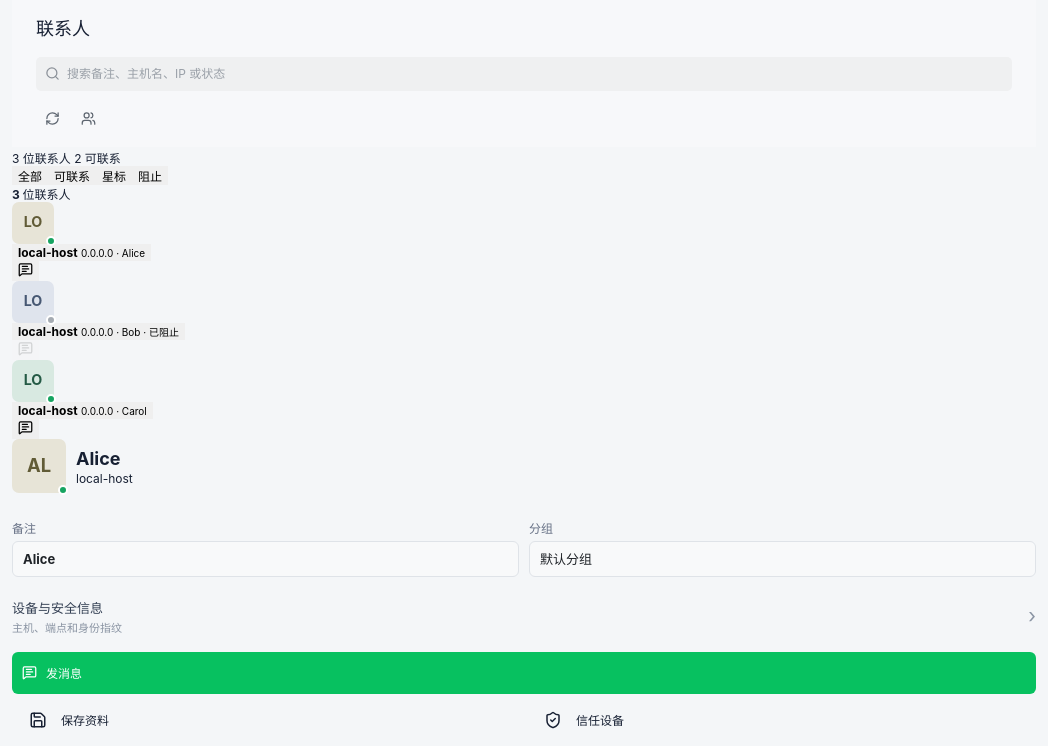
WorkspacePanel contacts empty state › filters contacts by favorite and blocked status
This screenshot has width=1048, height=746.
Click the tab "星标": point(114, 175) [96,166,132,184]
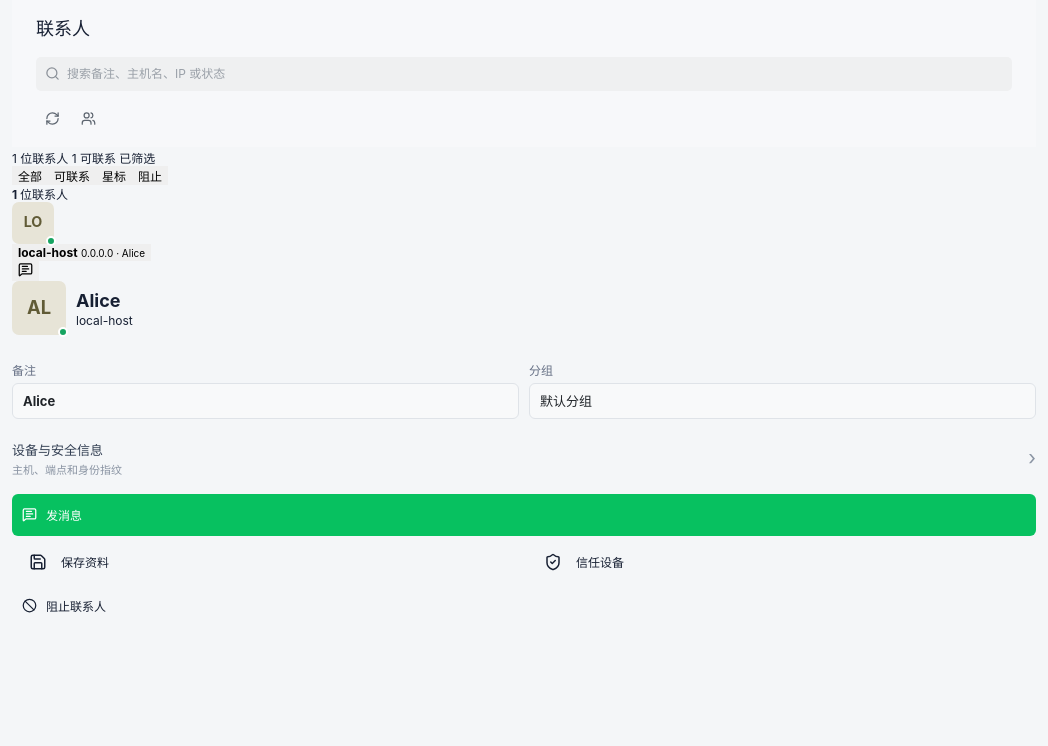
Expected: the text "Alice" is shown, [116,246,145,258]
Result: the button "Bob" is gone
Result: the button "Carol" is gone
Click the tab "阻止": point(150, 175) [132,166,168,184]
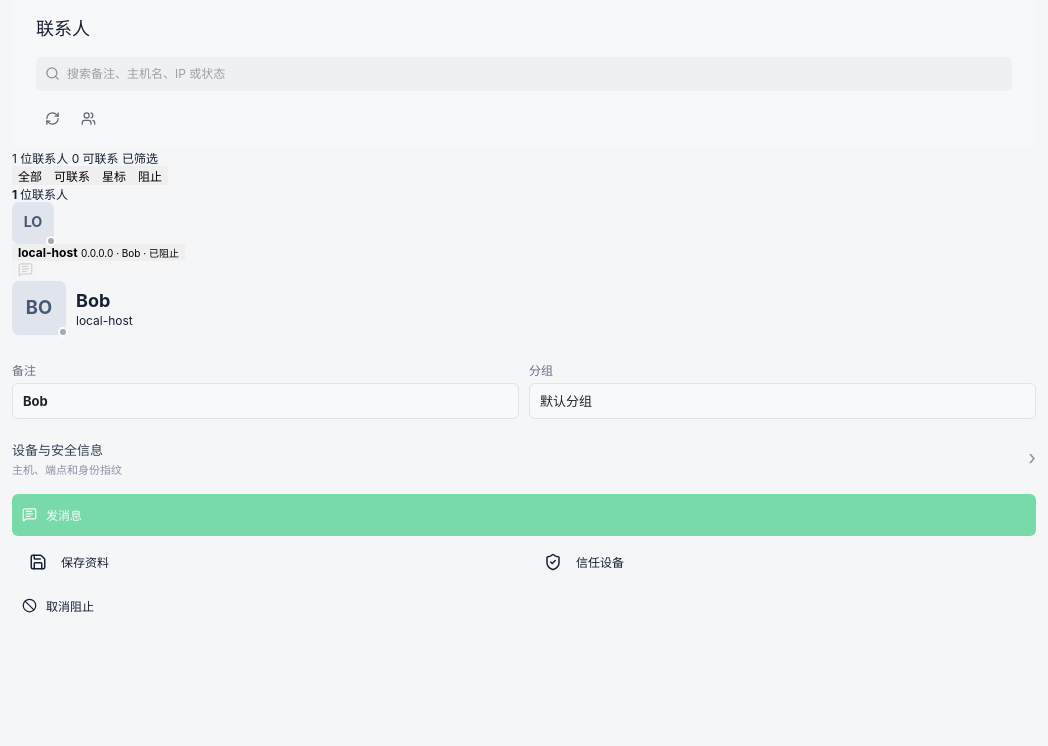
Result: the text "Bob" is shown at [116,246,140,258]
Result: the button "Alice" is gone
